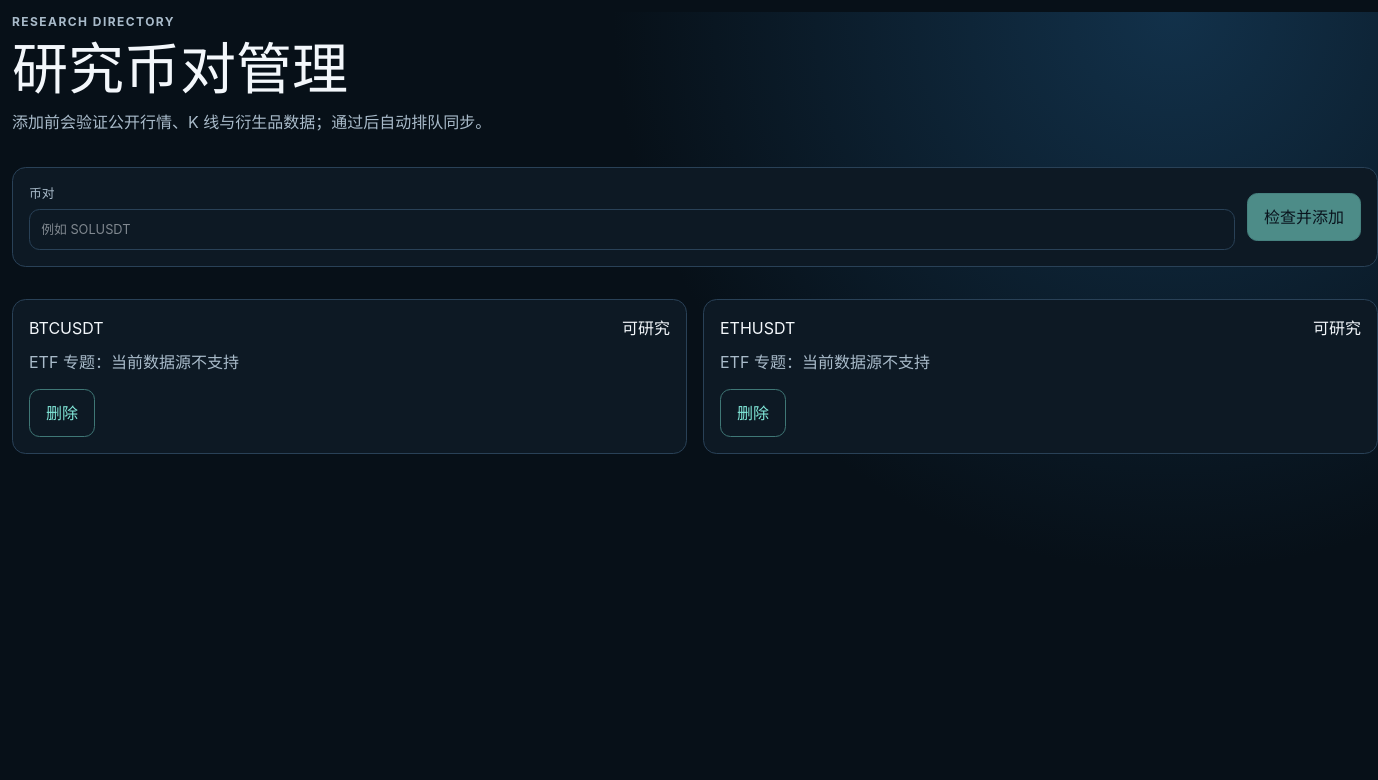
Test: research directory journeys › lists distinct server-provided admission reasons when adding a symbol fails
Step 1. Type "ZECUSDT" into the field labelled "币对" → (632, 230), box [29,209,1235,250]
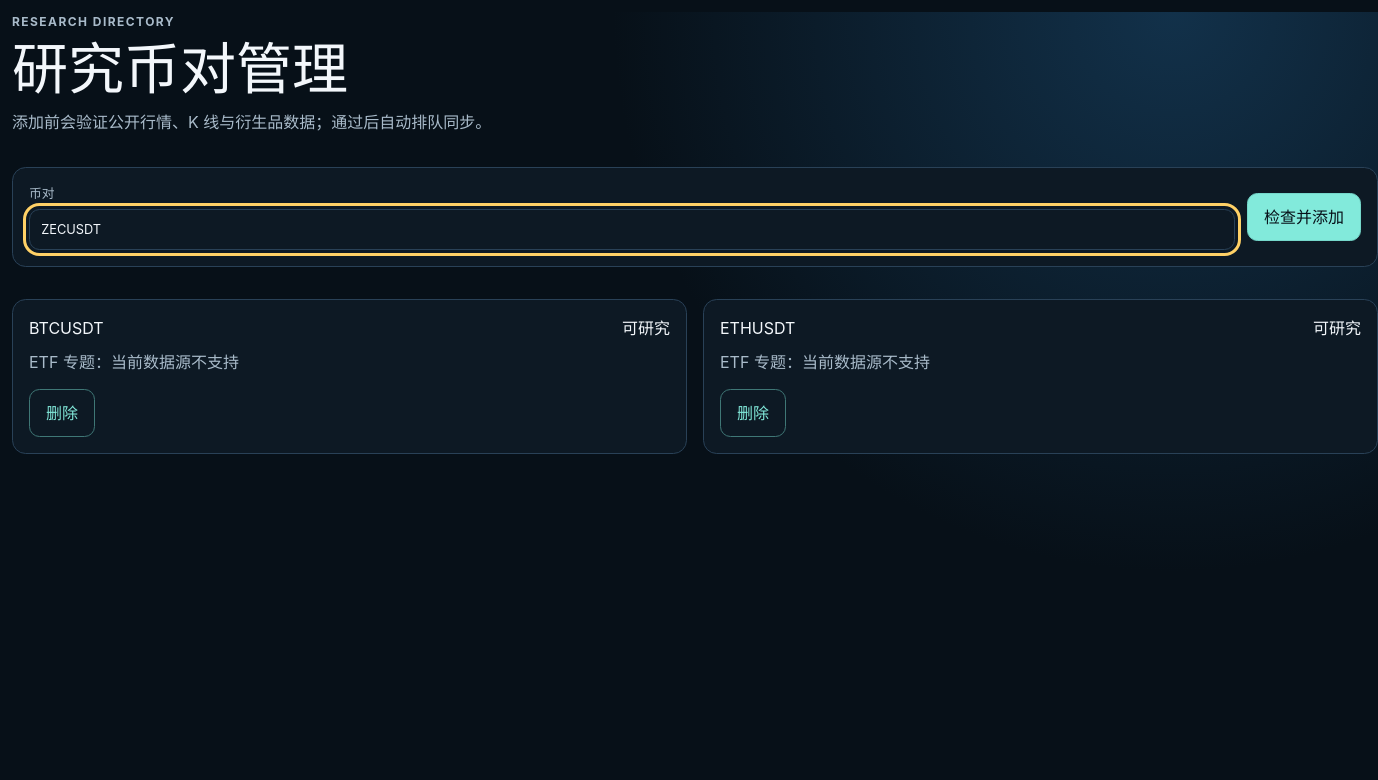
Step 2. Click the button "检查并添加" → (1304, 217), box [1247,193,1361,241]
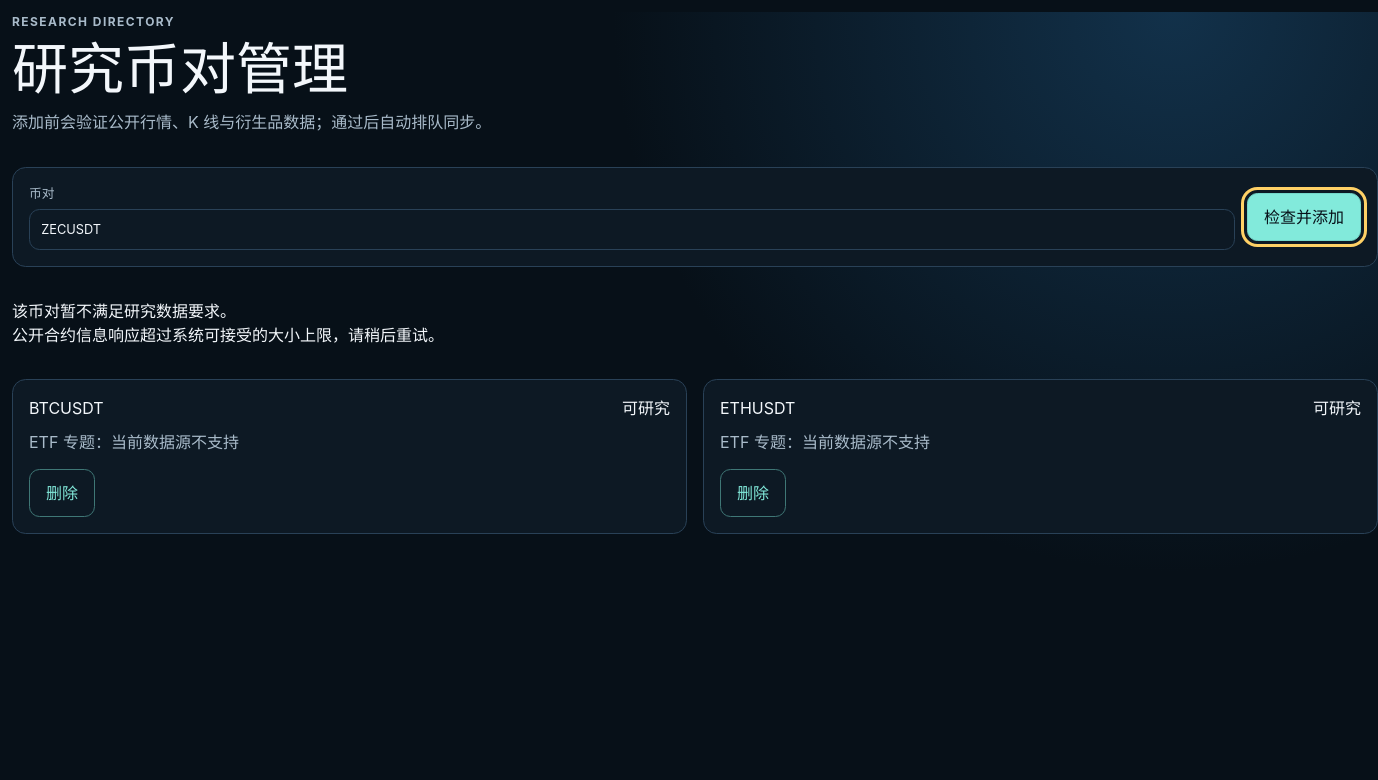
Check: the text "该币对暂不满足研究数据要求。" is shown, box [12,301,236,321]
Check: the number of list items is 1, box [12,325,444,345]
